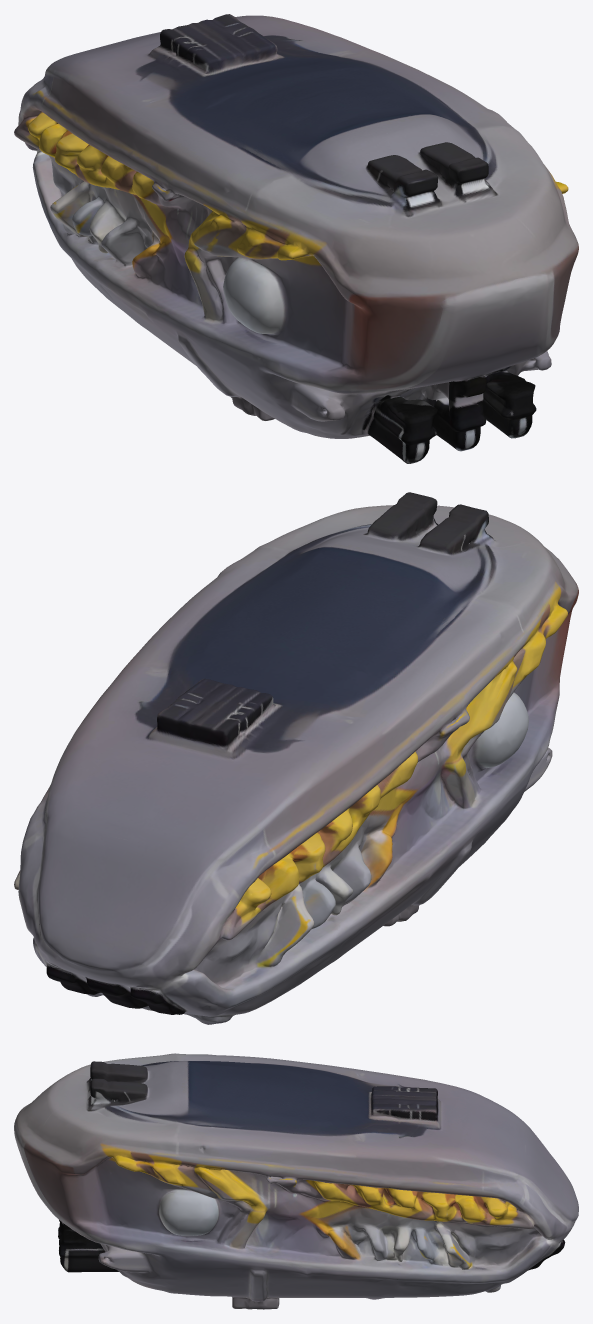
File: civicrightlight.glb
3 views of the same model, one above another, from view 1: azimuth 30°, elevation 25°; view 2: azimuth 150°, elevation 25°; view 3: azimuth 270°, elevation 25° (orthographic). The views are drawn at different scales.
Visible parts, largest first — view 1: tripo_node_3f8e5de3-3df2-4d75-9633-ed95cbd38aa2; view 2: tripo_node_3f8e5de3-3df2-4d75-9633-ed95cbd38aa2; view 3: tripo_node_3f8e5de3-3df2-4d75-9633-ed95cbd38aa2.
Part boxes in pixels (x1,y1,x2,y2): tripo_node_3f8e5de3-3df2-4d75-9633-ed95cbd38aa2: [14, 14, 578, 463]; tripo_node_3f8e5de3-3df2-4d75-9633-ed95cbd38aa2: [14, 492, 578, 1024]; tripo_node_3f8e5de3-3df2-4d75-9633-ed95cbd38aa2: [14, 1053, 578, 1309].
Bounding box in the file's own units: 0.3961 × 0.3913 × 0.9473.
Materials: 1 (1 with a texture image).
